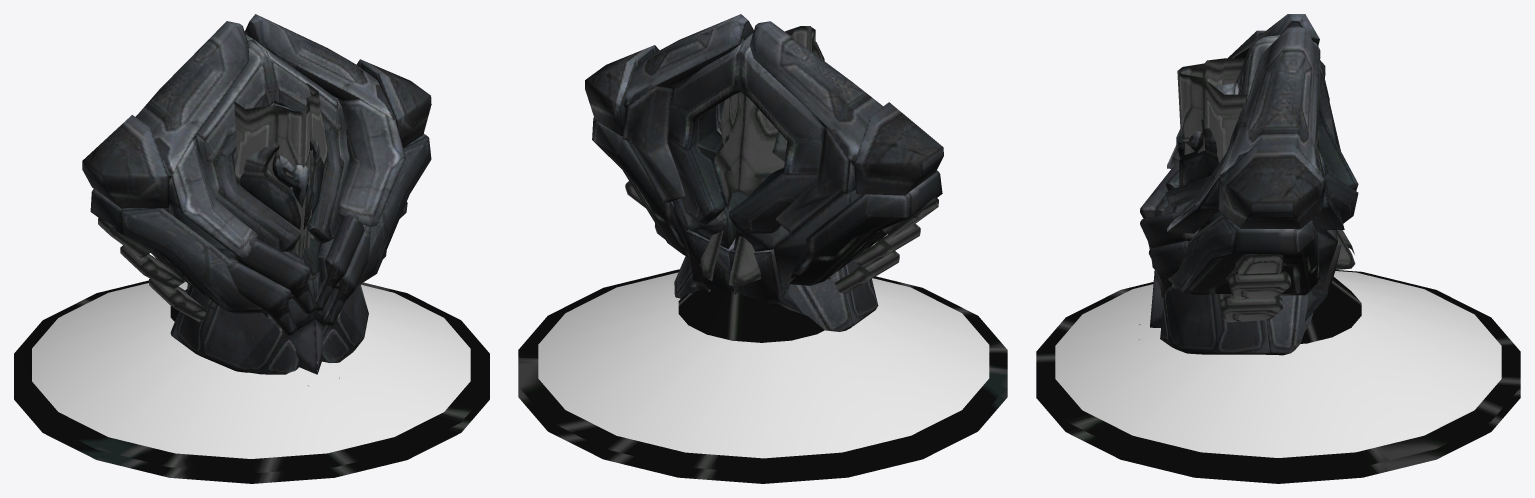
The model's file is Hybrid_Construct_Sentinel.glb.
3 views of the same model, side by side, from view 1: azimuth 30°, elevation 25°; view 2: azimuth 150°, elevation 25°; view 3: azimuth 270°, elevation 25° (orthographic). The views are drawn at different scales.
Visible parts, largest first — view 1: Mesh.002, Cylinder005, Mesh, Mesh.001; view 2: Mesh.002, Cylinder005, Mesh, Mesh.001; view 3: Cylinder005, Mesh.002, Mesh, Mesh.001.
Part boxes in pixels (<box>): Mesh.002: <box>82,14,431,385</box>; Cylinder005: <box>32,281,470,458</box>; Mesh: <box>14,280,489,483</box>; Mesh.001: <box>98,83,407,321</box>; Mesh.002: <box>585,14,943,331</box>; Cylinder005: <box>538,272,989,458</box>; Mesh: <box>518,269,1007,483</box>; Mesh.001: <box>625,26,938,293</box>; Cylinder005: <box>1055,271,1501,457</box>; Mesh.002: <box>1139,14,1358,355</box>; Mesh: <box>1036,270,1520,483</box>; Mesh.001: <box>1177,58,1355,322</box>.
Size of the model in its own units: 4.53 by 3.67 by 4.46.
4 materials, 4 textured.
